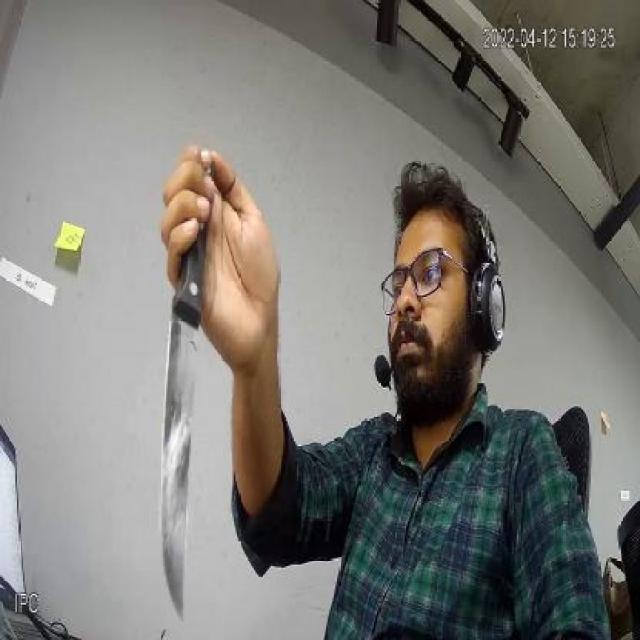-: (142, 308, 209, 614)
